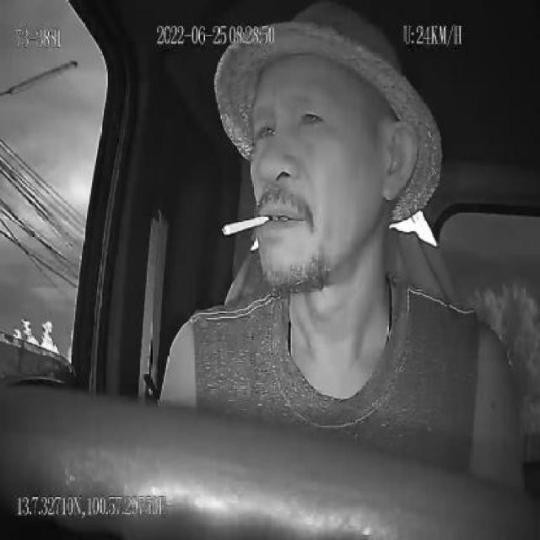smoking: (222, 209, 272, 237)
